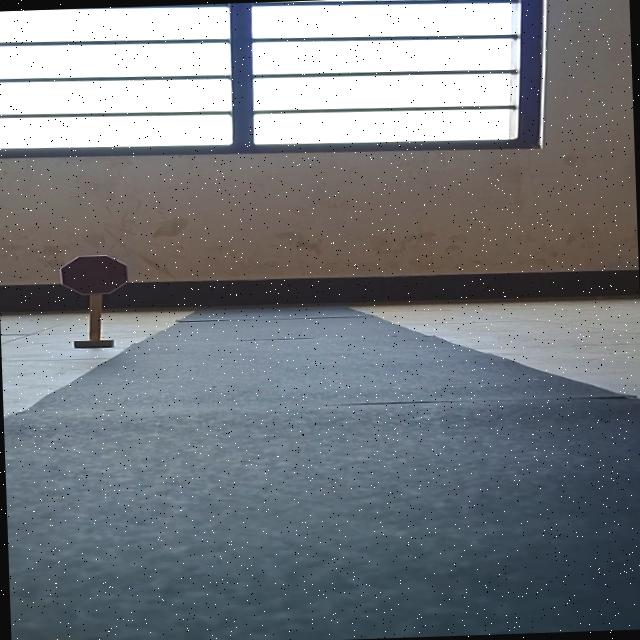Stop: (59, 253, 130, 296)
